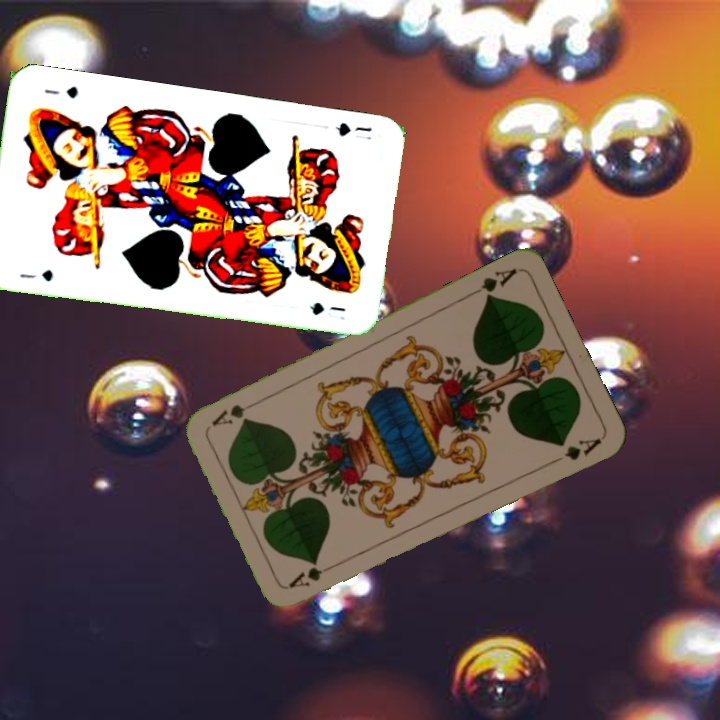GA: (465, 264, 520, 302), (284, 559, 341, 591)
GU: (331, 118, 374, 142), (16, 265, 56, 285)
